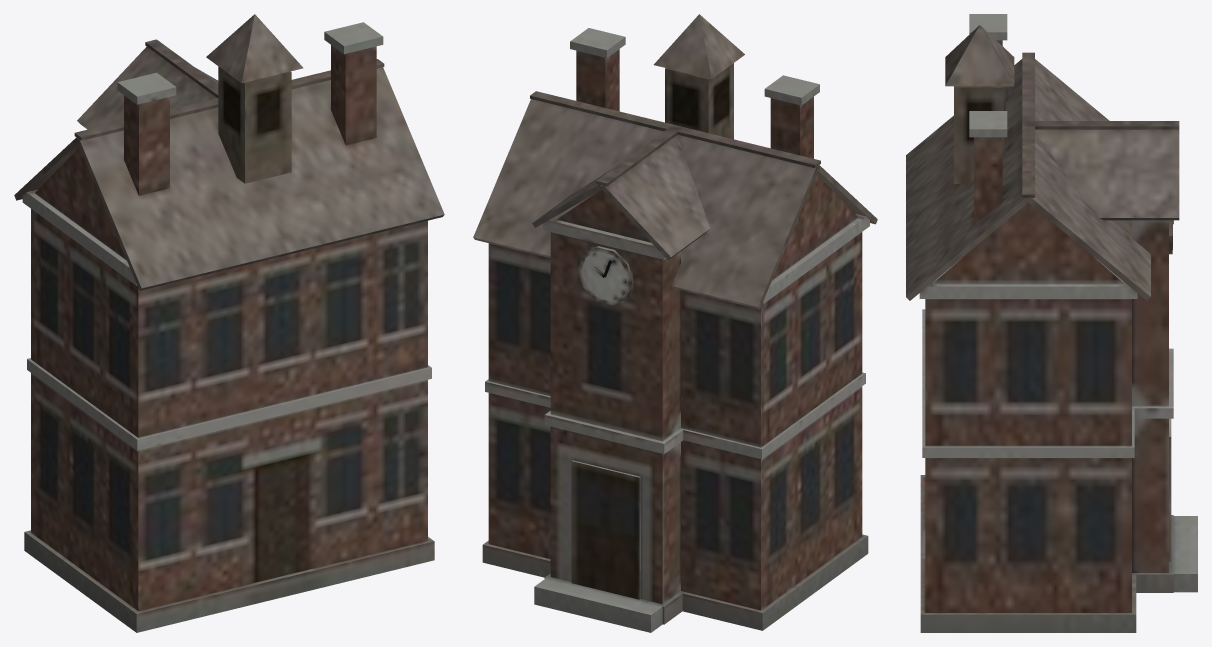
File: b_school_far.glb
The picture shows the model from 3 angles, left to right: view 1: azimuth 30°, elevation 25°; view 2: azimuth 150°, elevation 25°; view 3: azimuth 270°, elevation 25°; orthographic projection. The views are drawn at different scales.
Visible parts, largest first — view 1: b_school_far; view 2: b_school_far; view 3: b_school_far.
Boxes of the visible parts, box(x1,y1,x2,y2) form: b_school_far: box(14, 14, 444, 632); b_school_far: box(473, 14, 877, 632); b_school_far: box(906, 14, 1197, 632).
Size of the model in its own units: 5.86 by 10.35 by 5.08.
1 material, 1 textured.
